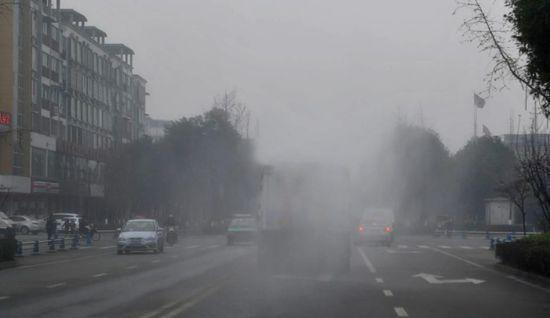car: (116, 217, 165, 253), (356, 216, 392, 244), (227, 213, 259, 243), (7, 214, 40, 235), (40, 213, 78, 231)
